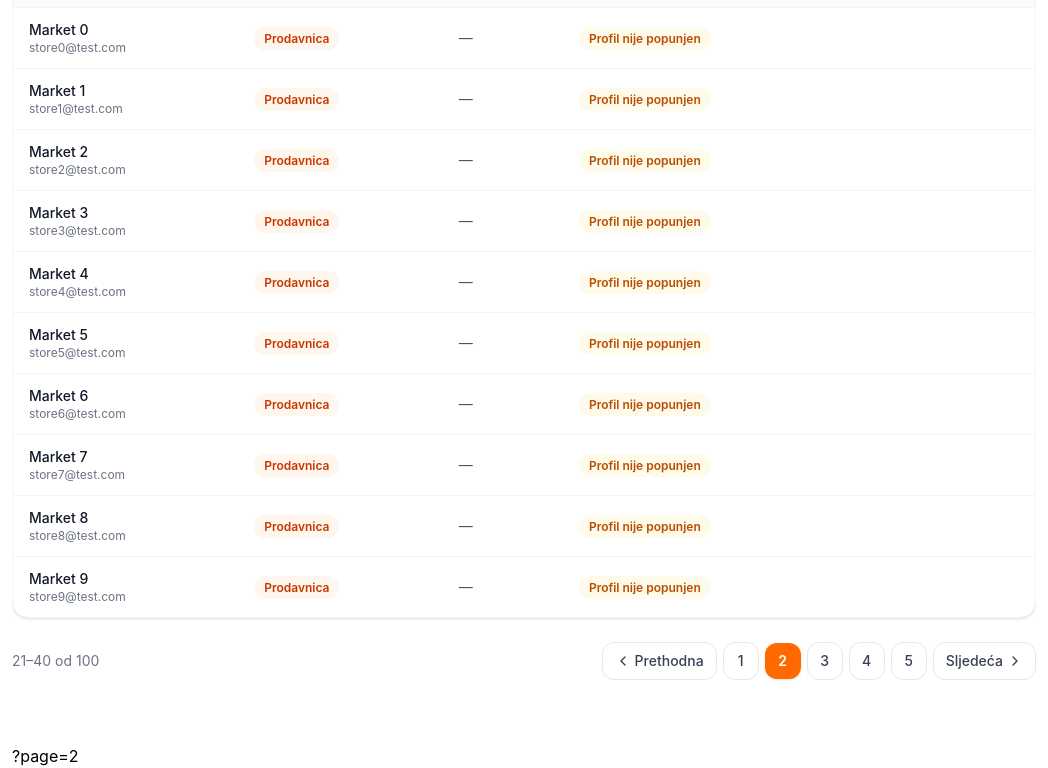
Test: Admin paging › reads the page from the URL and writes the chosen page back
(page scrolled)
Expected: the text "Market 0" is shown, [29,21,89,38]
Step 1. Click the button "5" → (909, 661), box [891,642,927,680]
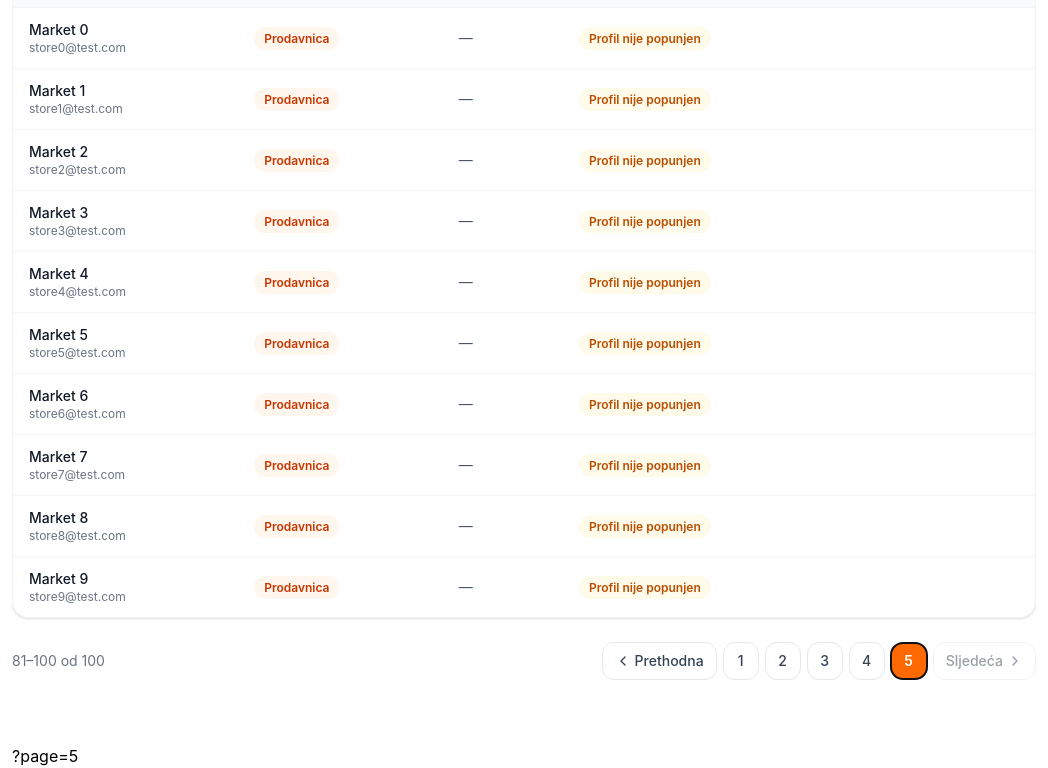
Expected: the text with test id "search" reads "?page=5", [12,746,78,766]
